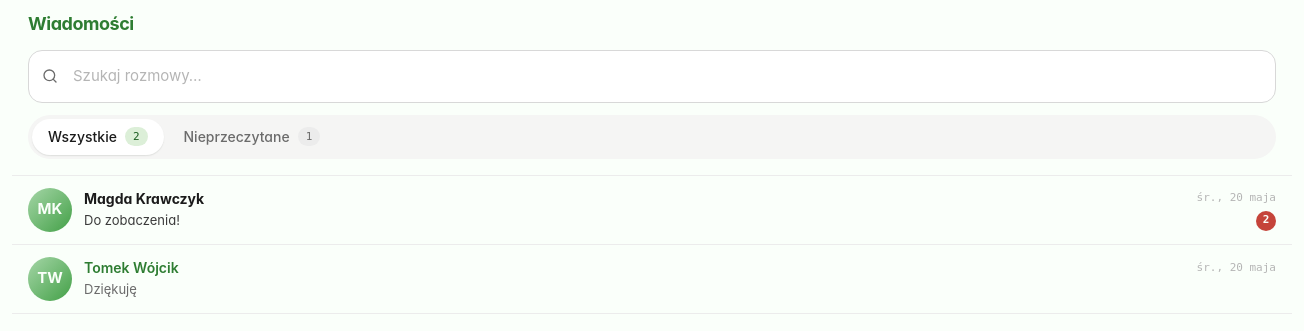
Scenario: ConversationList › filters to unread only
Click the tab "Nieprzeczytane 1". click: (252, 136)
box: [168,118,336,154]
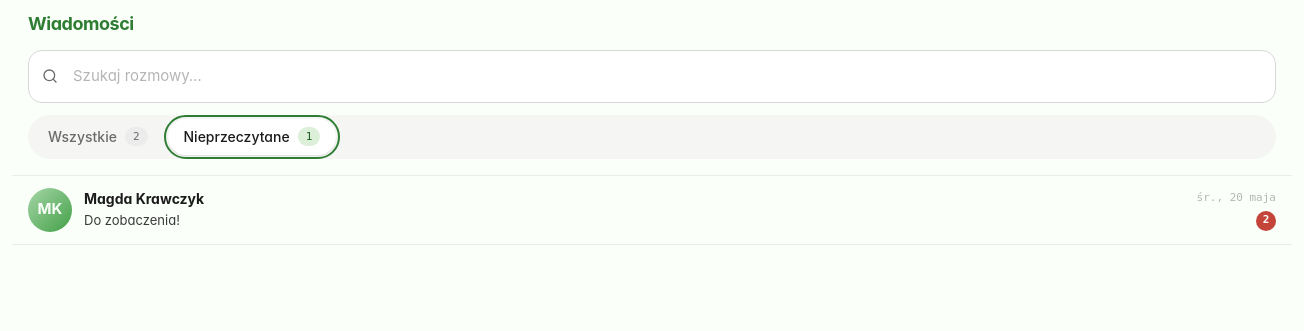
expect the text "Magda Krawczyk" is shown: met, box [84,188,204,208]
expect the button "Tomek Wójcik" is gone: met
